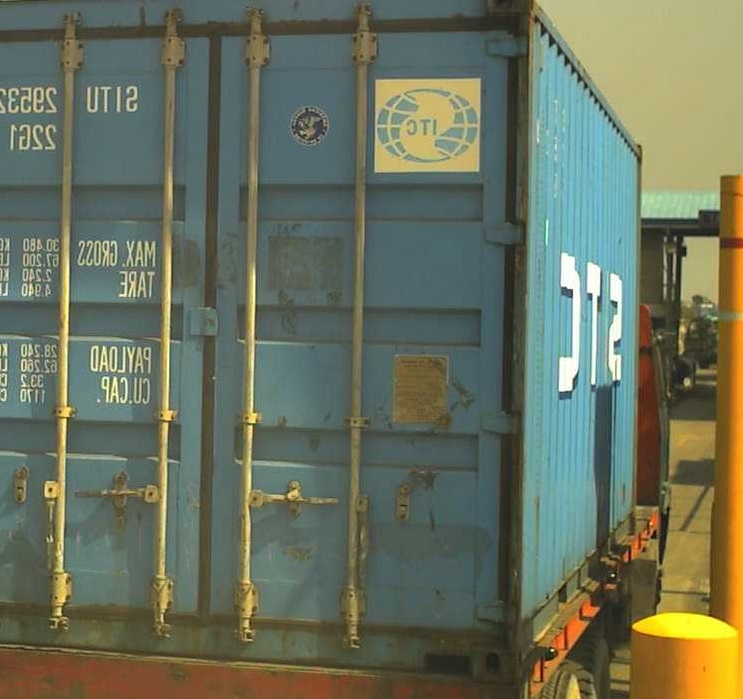container_door: (3, 5, 524, 691)
